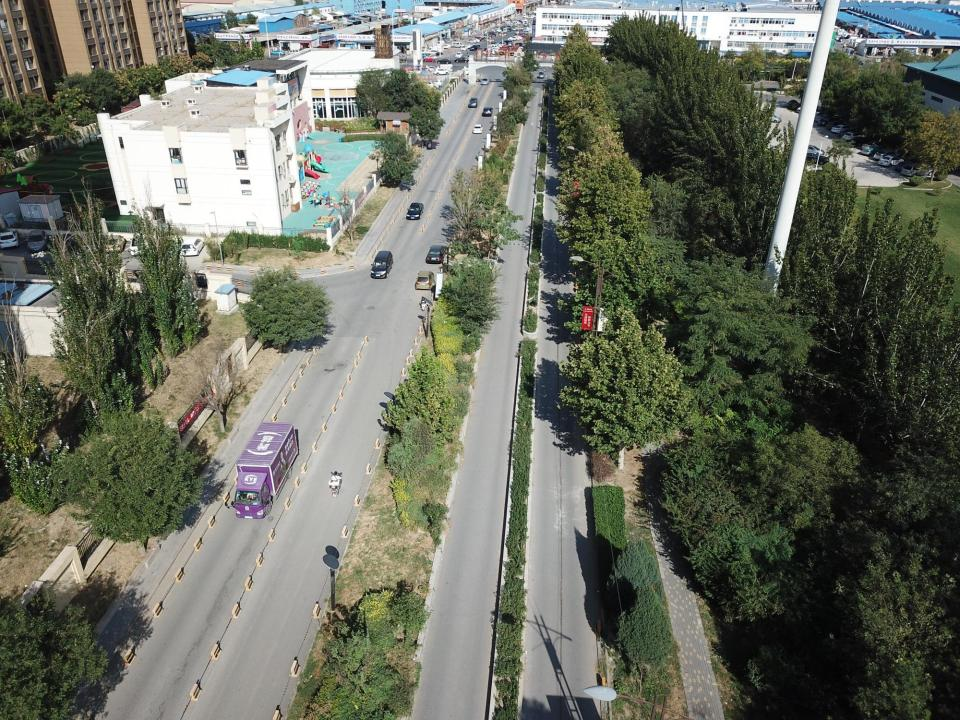car: (370, 250, 393, 279), (900, 162, 933, 176), (26, 230, 48, 251), (180, 238, 205, 256), (426, 244, 448, 264), (81, 233, 102, 253), (415, 270, 435, 289), (106, 234, 126, 253), (56, 231, 74, 252), (130, 233, 147, 255), (803, 150, 829, 164), (799, 144, 824, 157), (406, 202, 424, 220), (877, 155, 904, 167), (1, 230, 19, 248), (861, 144, 886, 156), (842, 131, 867, 141), (761, 112, 781, 124), (873, 150, 895, 160), (831, 124, 851, 134), (797, 105, 817, 115), (826, 120, 846, 130), (818, 116, 838, 126), (432, 68, 450, 76), (468, 96, 479, 108), (482, 106, 493, 116), (472, 124, 484, 133), (451, 41, 465, 48), (436, 58, 452, 64), (454, 57, 470, 63), (482, 50, 496, 55), (426, 54, 437, 60), (481, 77, 489, 85), (423, 57, 435, 62), (499, 40, 514, 44), (466, 39, 476, 44), (455, 52, 463, 58), (486, 48, 498, 52), (494, 42, 502, 48), (538, 72, 545, 78), (443, 44, 451, 49)
truck: (225, 422, 299, 519), (509, 46, 519, 55), (500, 45, 508, 55)
van: (394, 54, 407, 61), (488, 44, 499, 50), (426, 66, 437, 71), (872, 57, 880, 63)
